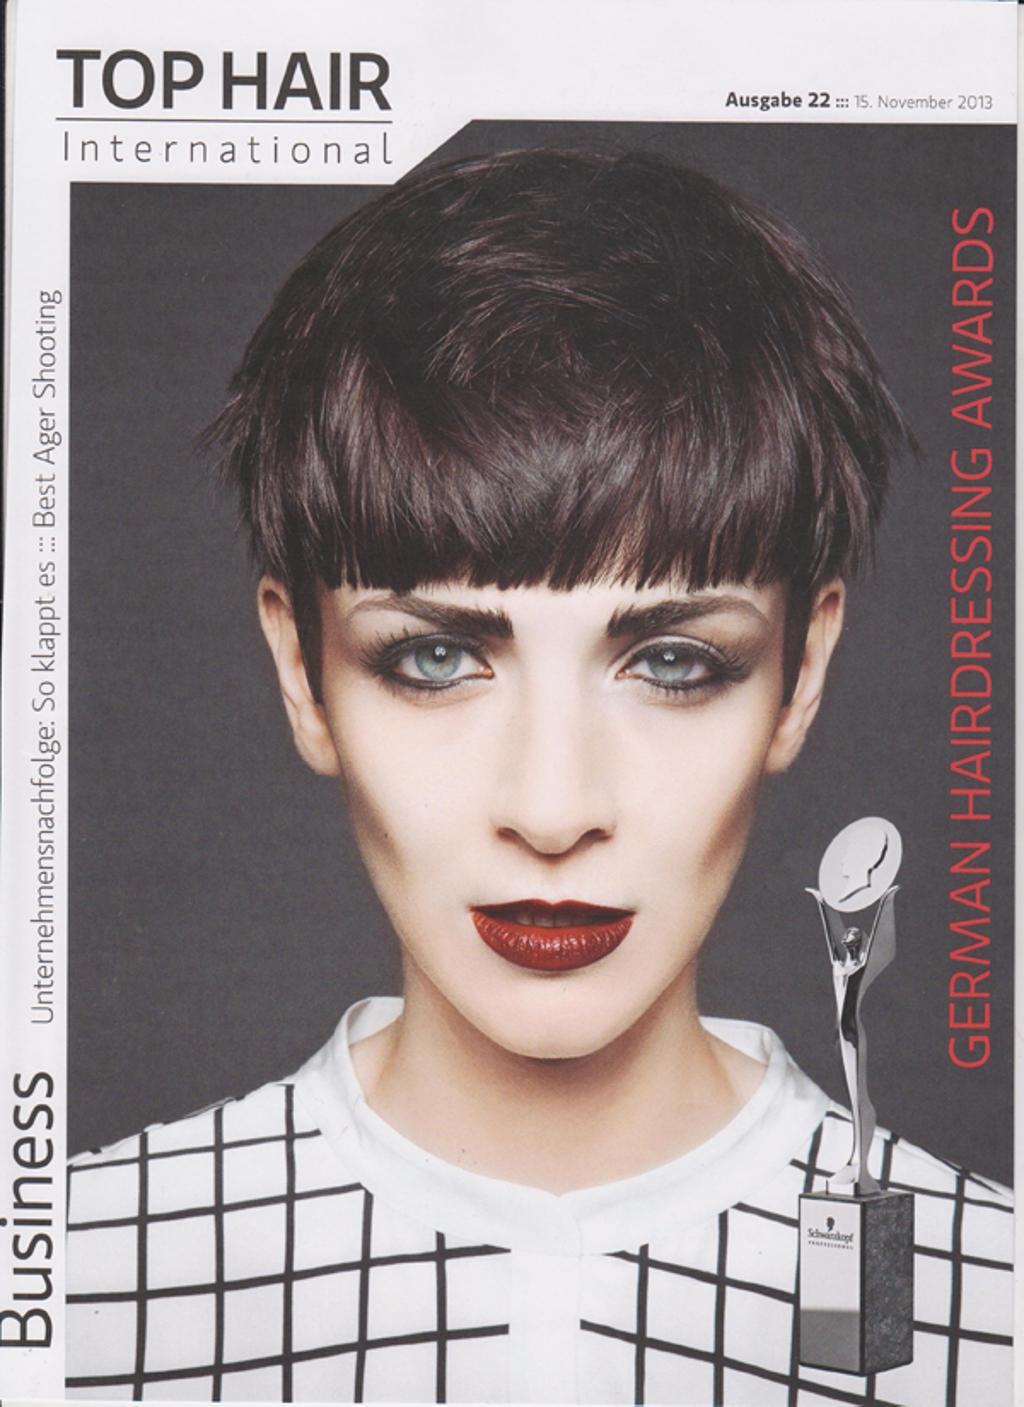face: (313, 475, 782, 1054)
